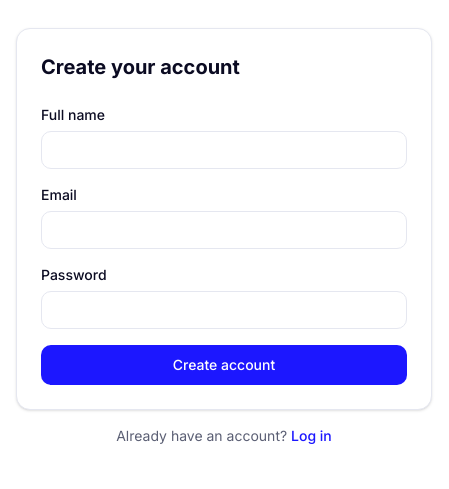
Test: RegisterPage › shows the password-strength meter as the user types
Type "StrongPass1" into the password field labelled "Password" at (224, 310), box [41,291,407,329]
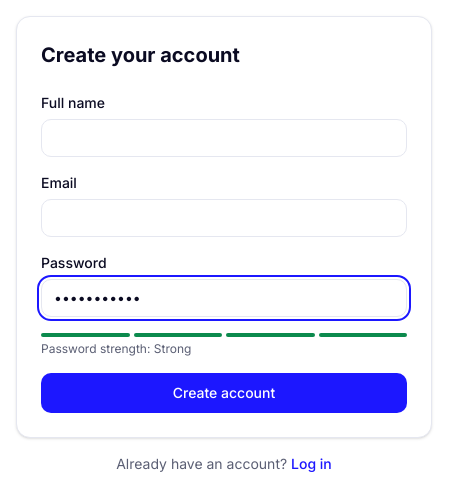
Now the text "Password strength: Strong" is shown, box [41,341,191,356]
